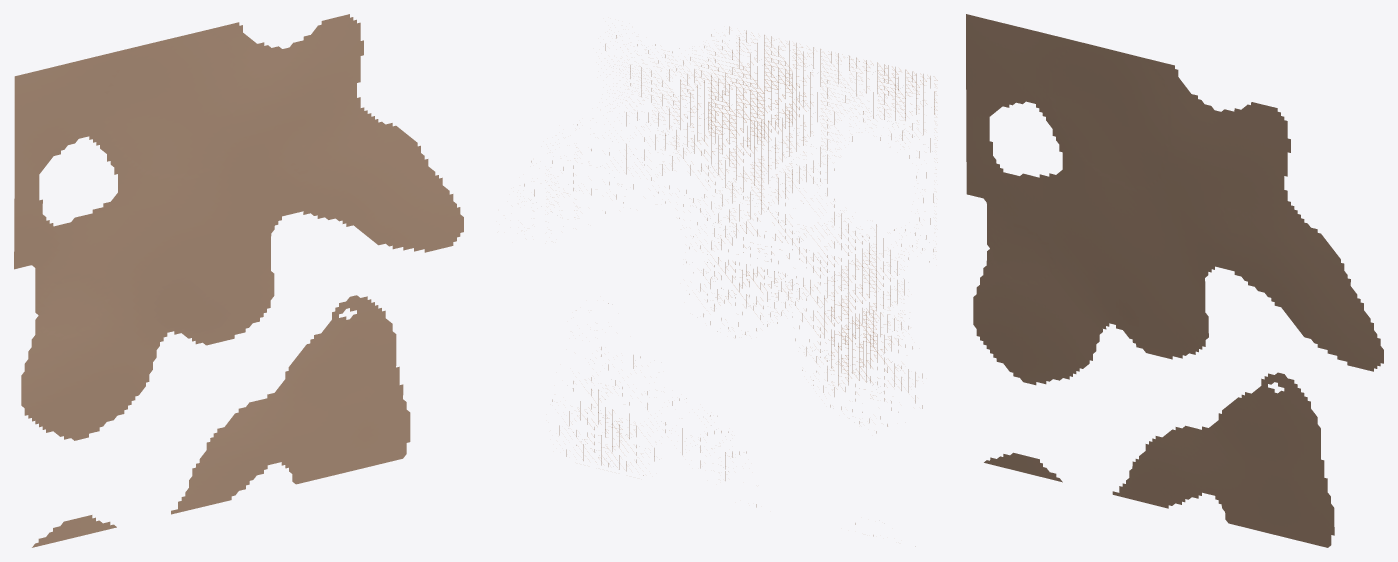
3 views of the same model, side by side, from view 1: azimuth 30°, elevation 25°; view 2: azimuth 150°, elevation 25°; view 3: azimuth 330°, elevation 25° (orthographic). The views are drawn at different scales.
Visible parts, largest first — view 1: world; view 2: world; view 3: world.
Part boxes in pixels (x1,y1,x2,y2): world: [14, 14, 463, 547]; world: [524, 26, 937, 546]; world: [966, 14, 1383, 547].
Bounding box in the file's own units: 12600 × 12800 × 105.
